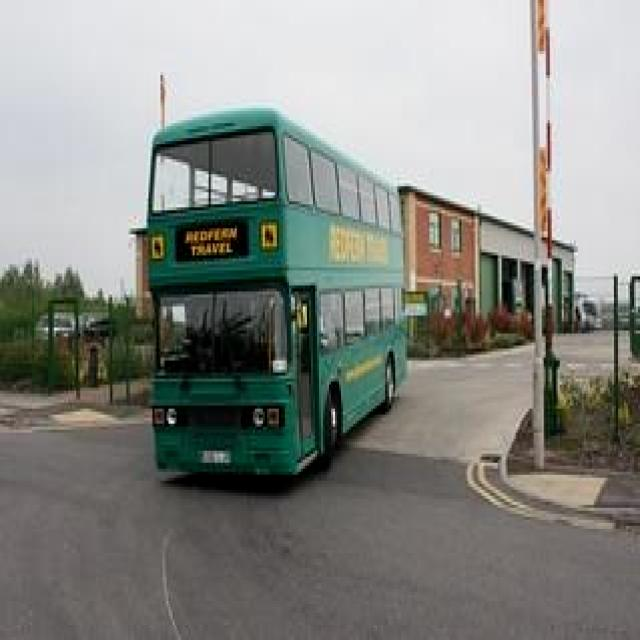Bus: (131, 76, 411, 498)
